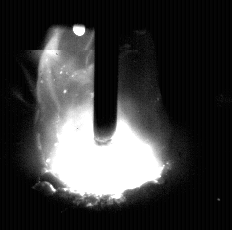arame: (94, 0, 118, 144)
poca: (34, 0, 170, 230)
